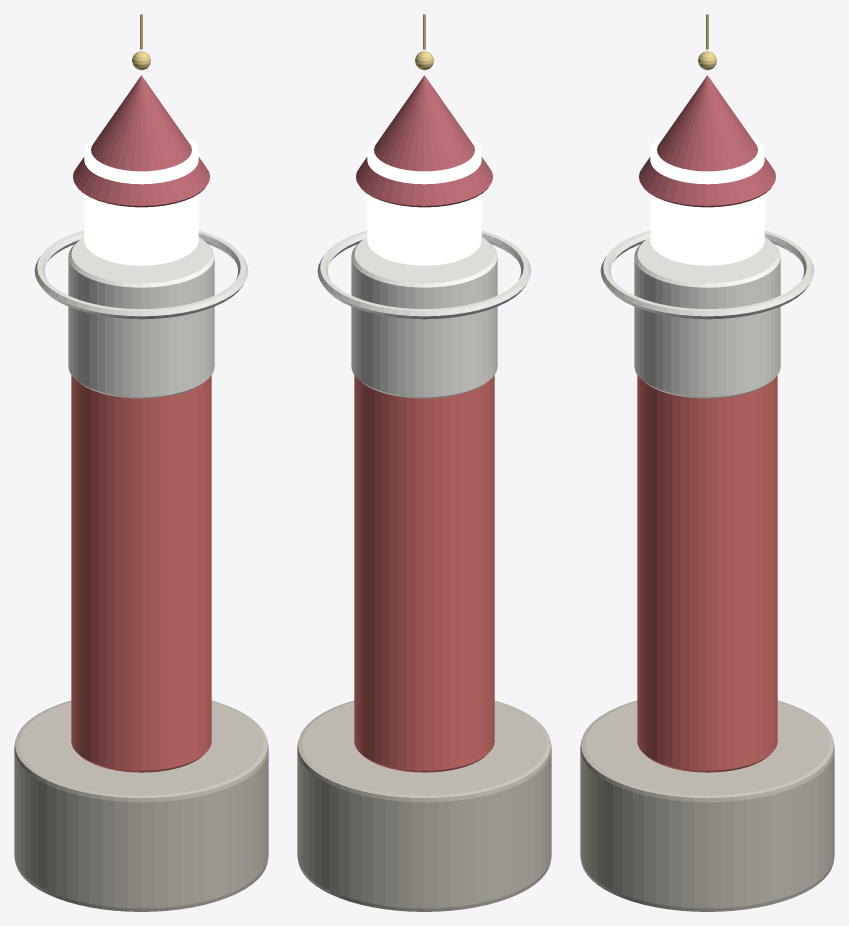
File: leuchtturm_lod0.fbx
3 renders of one model, left to right at view 1: azimuth 30°, elevation 25°; view 2: azimuth 150°, elevation 25°; view 3: azimuth 270°, elevation 25°, orthographic.
Visible parts, largest first — view 1: Leuchtturm_Turm_LOD0, Leuchtturm_Sockel_LOD0, Leuchtturm_Turm_Weiss_LOD0, Leuchtturm_Dach_LOD0, Leuchtturm_Laterne_LOD0, Leuchtturm_Veranda_LOD0; view 2: Leuchtturm_Turm_LOD0, Leuchtturm_Sockel_LOD0, Leuchtturm_Turm_Weiss_LOD0, Leuchtturm_Dach_LOD0, Leuchtturm_Laterne_LOD0, Leuchtturm_Veranda_LOD0; view 3: Leuchtturm_Turm_LOD0, Leuchtturm_Sockel_LOD0, Leuchtturm_Turm_Weiss_LOD0, Leuchtturm_Dach_LOD0, Leuchtturm_Laterne_LOD0, Leuchtturm_Veranda_LOD0.
Part boxes in pixels (bbox=[...]): Leuchtturm_Turm_LOD0: bbox=[71, 375, 211, 772]; Leuchtturm_Sockel_LOD0: bbox=[14, 700, 268, 911]; Leuchtturm_Turm_Weiss_LOD0: bbox=[68, 237, 214, 398]; Leuchtturm_Dach_LOD0: bbox=[73, 75, 209, 207]; Leuchtturm_Laterne_LOD0: bbox=[84, 135, 198, 265]; Leuchtturm_Veranda_LOD0: bbox=[34, 230, 248, 319]; Leuchtturm_Turm_LOD0: bbox=[354, 375, 494, 772]; Leuchtturm_Sockel_LOD0: bbox=[297, 700, 551, 911]; Leuchtturm_Turm_Weiss_LOD0: bbox=[351, 237, 497, 398]; Leuchtturm_Dach_LOD0: bbox=[356, 75, 492, 207]; Leuchtturm_Laterne_LOD0: bbox=[367, 135, 481, 265]; Leuchtturm_Veranda_LOD0: bbox=[317, 230, 531, 319]; Leuchtturm_Turm_LOD0: bbox=[637, 375, 777, 772]; Leuchtturm_Sockel_LOD0: bbox=[580, 700, 834, 911]; Leuchtturm_Turm_Weiss_LOD0: bbox=[634, 237, 780, 398]; Leuchtturm_Dach_LOD0: bbox=[639, 75, 775, 207]; Leuchtturm_Laterne_LOD0: bbox=[650, 135, 764, 265]; Leuchtturm_Veranda_LOD0: bbox=[600, 230, 814, 319].
Bounding box in the file's own units: 4 × 14.65 × 4.
